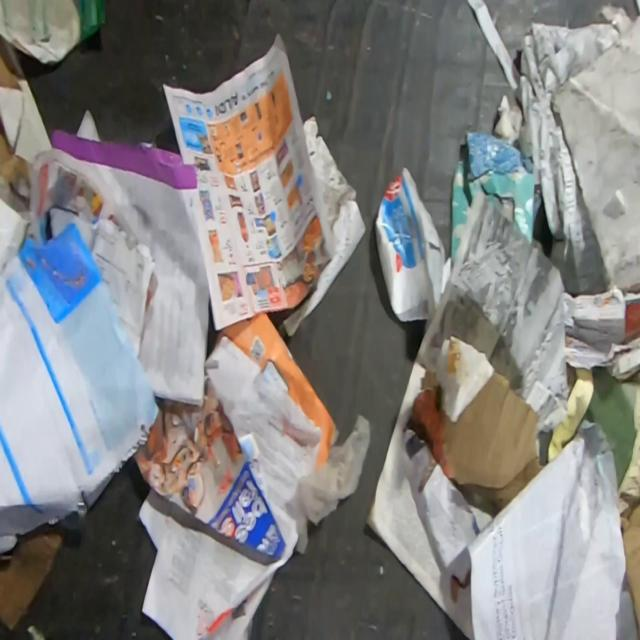cardboard: (442, 370, 544, 511), (450, 128, 542, 265), (0, 34, 55, 202), (618, 490, 640, 639)
rigid_plastic: (374, 165, 454, 323)
